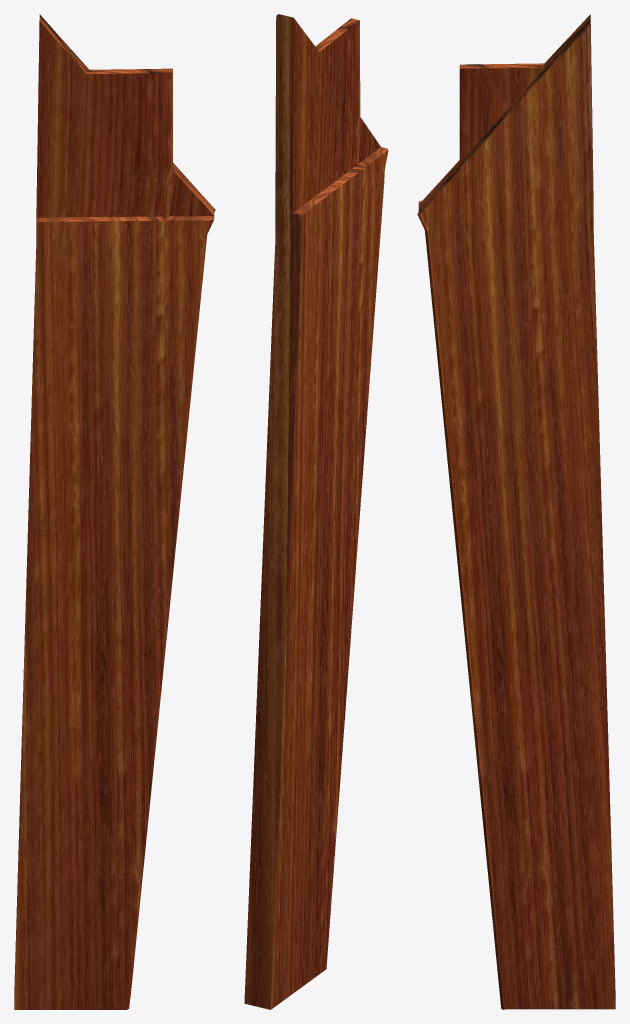
The model's file is quanyi_ J_youjuankou_zuo.FBX.
The picture shows the model from 3 angles, left to right: view 1: azimuth 90°, elevation 25°; view 2: azimuth 150°, elevation 25°; view 3: azimuth 270°, elevation 25°; orthographic projection.
Parts seen in each view (by area): view 1: quanyi_ J_youjuankou_zuo; view 2: quanyi_ J_youjuankou_zuo; view 3: quanyi_ J_youjuankou_zuo.
Part boxes in pixels (bbox=[...]): quanyi_ J_youjuankou_zuo: bbox=[14, 14, 215, 1009]; quanyi_ J_youjuankou_zuo: bbox=[244, 14, 388, 1009]; quanyi_ J_youjuankou_zuo: bbox=[417, 14, 615, 1009].
Bounding box in the file's own units: 1.67 × 33.14 × 6.09.
2 materials, 2 textured.
